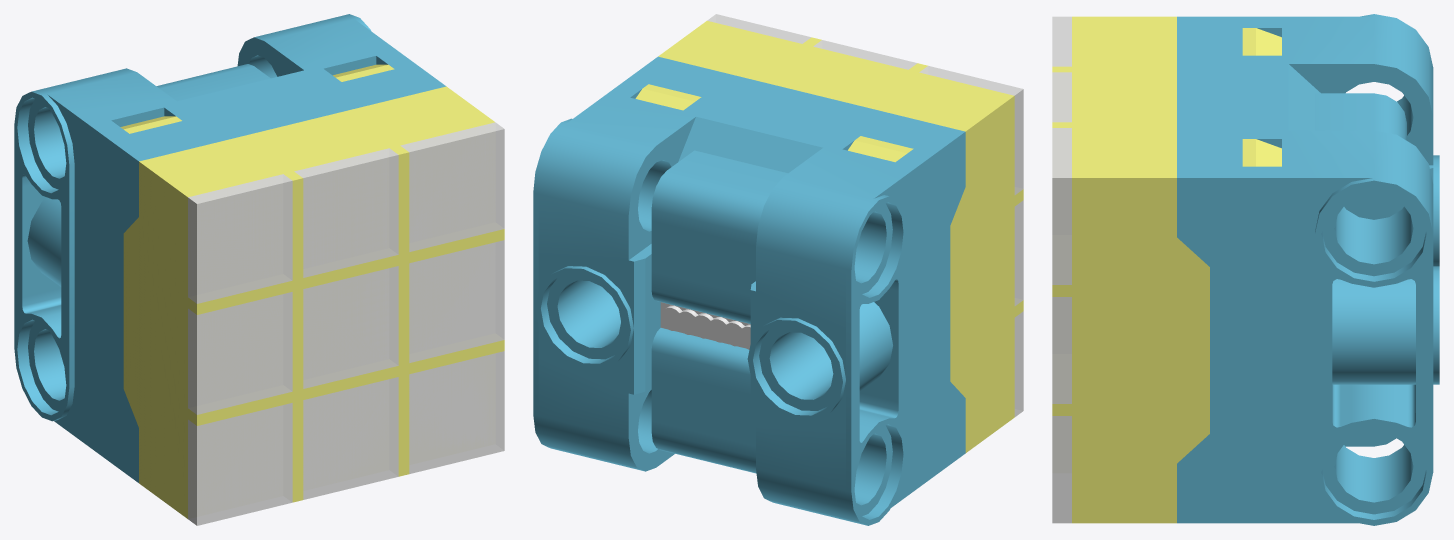
3 renders of one model, left to right at view 1: azimuth 30°, elevation 25°; view 2: azimuth 150°, elevation 25°; view 3: azimuth 270°, elevation 25°, orthographic. The views are drawn at different scales.
Visible parts, largest first — view 1: u9533.dat, u9408.dat, u9532.dat; view 2: u9408.dat, u9532.dat, u9460.dat, u9533.dat, 47592.dat; view 3: u9408.dat, u9532.dat, u9533.dat, u9460.dat.
Part boxes in pixels (<box>): u9533.dat: <box>188,122,504,525</box>; u9408.dat: <box>14,14,446,482</box>; u9532.dat: <box>120,64,494,518</box>; u9408.dat: <box>533,56,965,525</box>; u9532.dat: <box>635,21,1014,452</box>; u9460.dat: <box>651,221,755,445</box>; u9533.dat: <box>707,14,1023,416</box>; 47592.dat: <box>660,302,750,349</box>; u9408.dat: <box>1177,14,1439,525</box>; u9532.dat: <box>1072,16,1281,523</box>; u9533.dat: <box>1052,16,1071,523</box>; u9460.dat: <box>1344,193,1403,219</box>.
Bounding box in the file's own units: 0.024 × 0.0232 × 0.0236.
